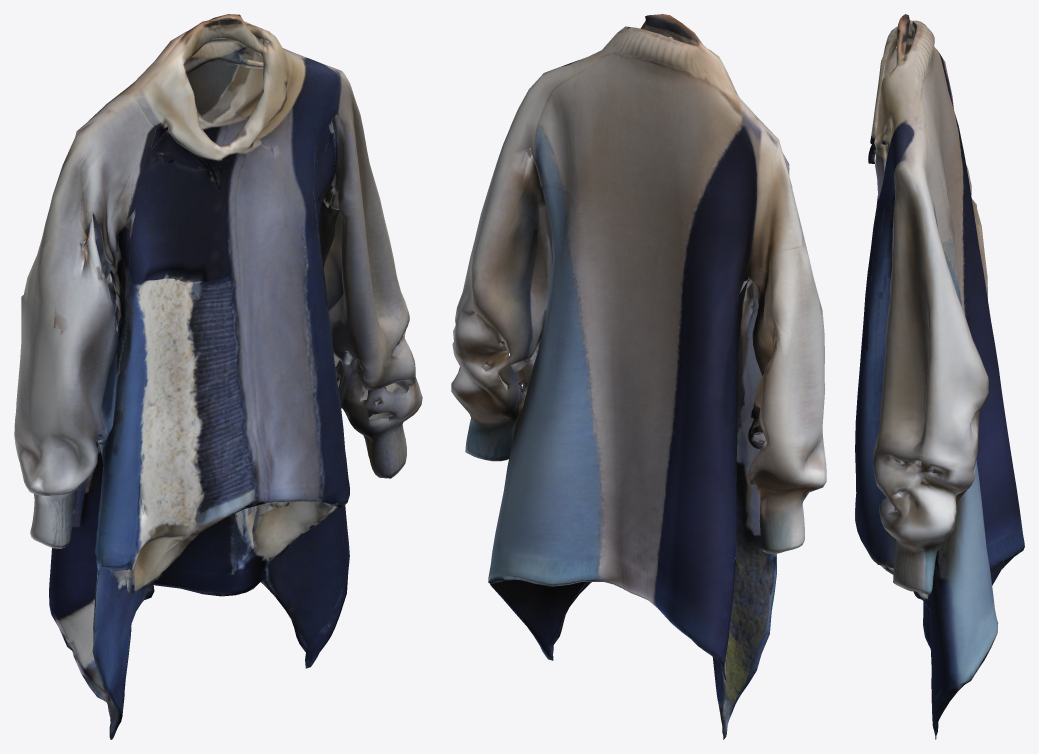
File: product05.glb
3 views of the same model, side by side, from view 1: azimuth 30°, elevation 25°; view 2: azimuth 150°, elevation 25°; view 3: azimuth 270°, elevation 25° (orthographic). The views are drawn at different scales.
Size of the model in its own units: 1.04 by 1.86 by 0.4084.
1 material, 1 textured.
